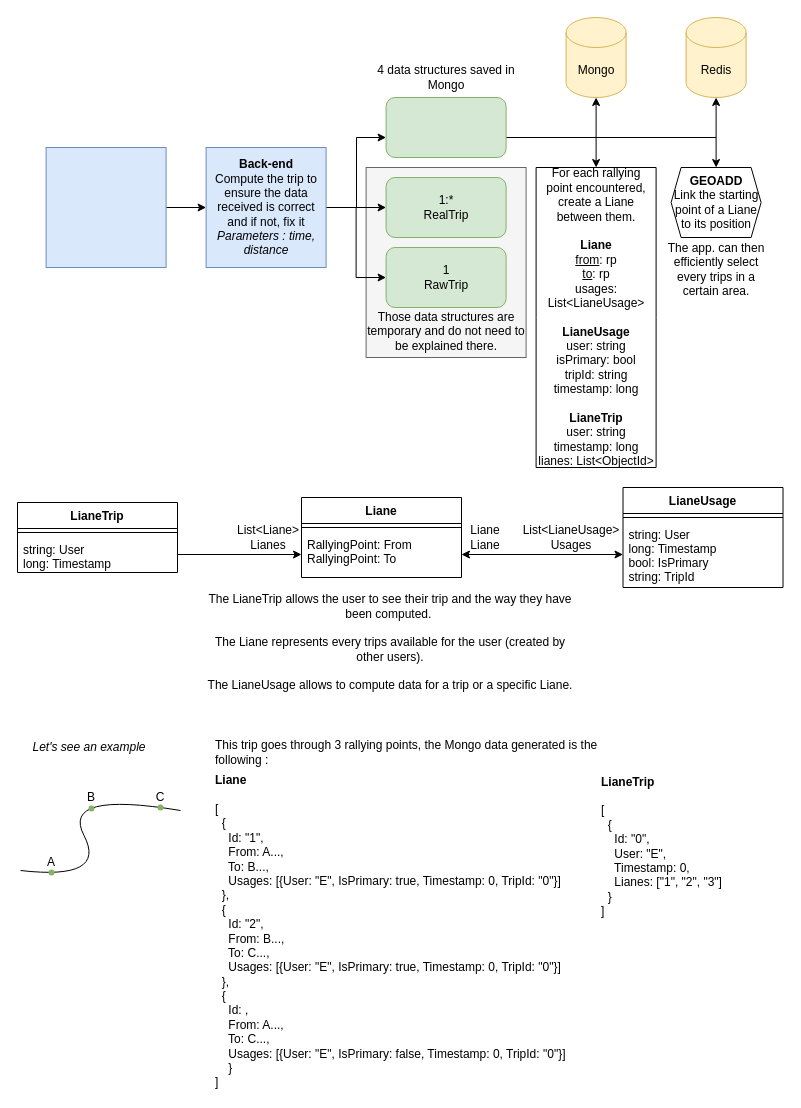
The diagram is 801 pixels wide and 1108 high, and some of its shapes have lost their labels. Here are the shapes that lost their labels. From the top down, the centre of each, then its label:
(445,127): 1:* Liane 1 LianeTrip
(105,207): Application Send what it interpreted to be a trip
